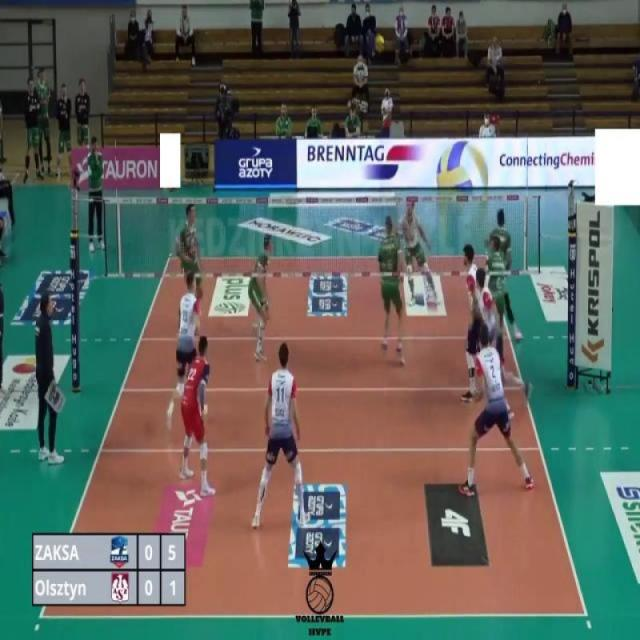volleyball: (434, 139, 490, 187), (374, 32, 386, 55)
